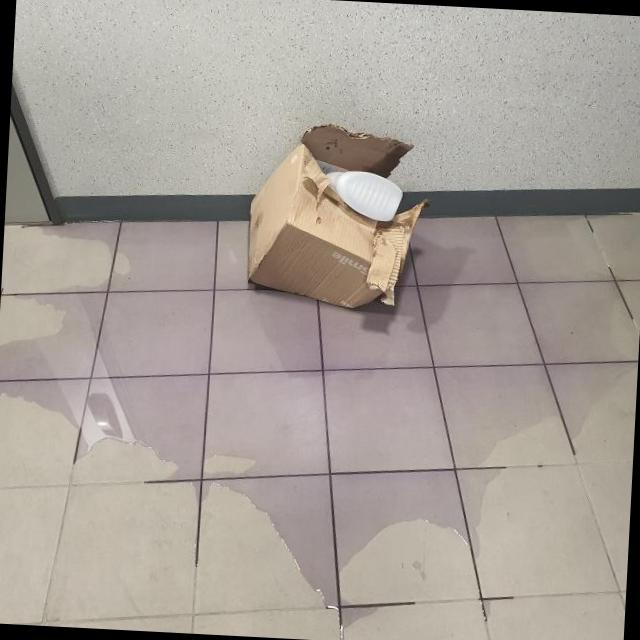box: (110, 107, 533, 546)
